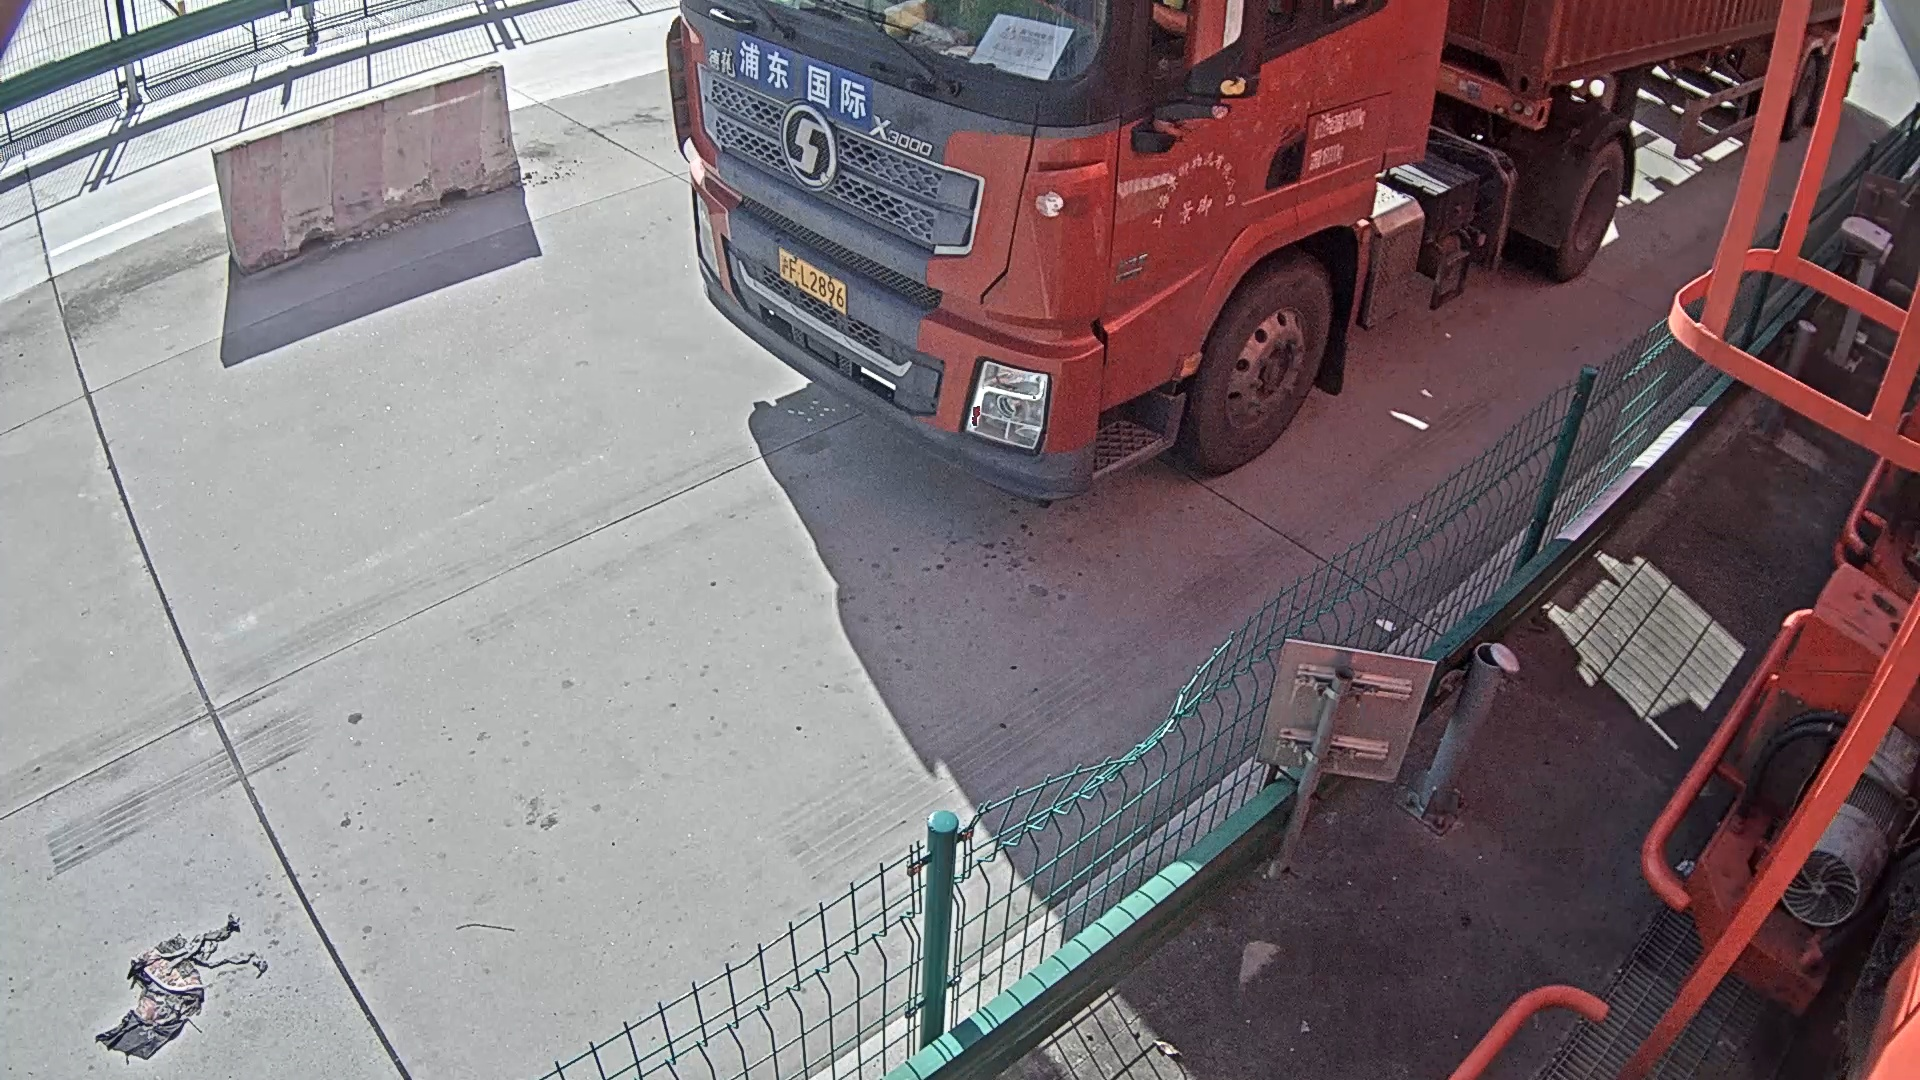head: (668, 1, 1427, 480)
plate: (773, 245, 849, 312)
